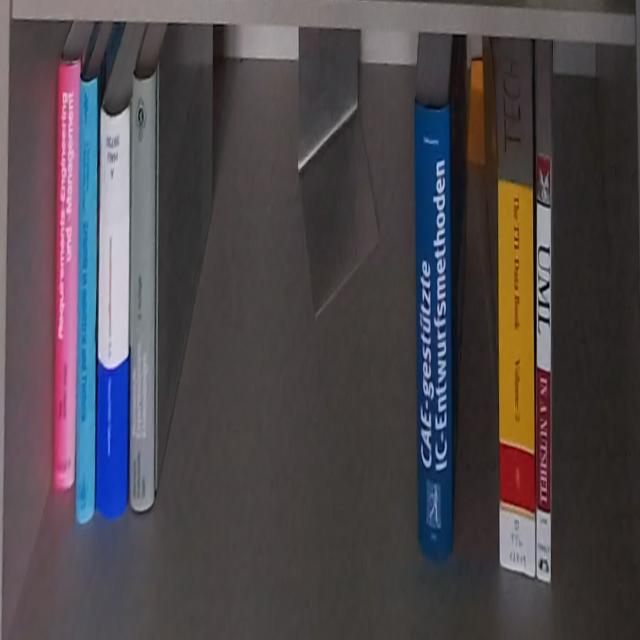Book Spine: (415, 104, 453, 561), (498, 182, 536, 582), (96, 102, 130, 520), (130, 68, 158, 511), (53, 58, 81, 491), (75, 78, 98, 525), (537, 152, 552, 585)
